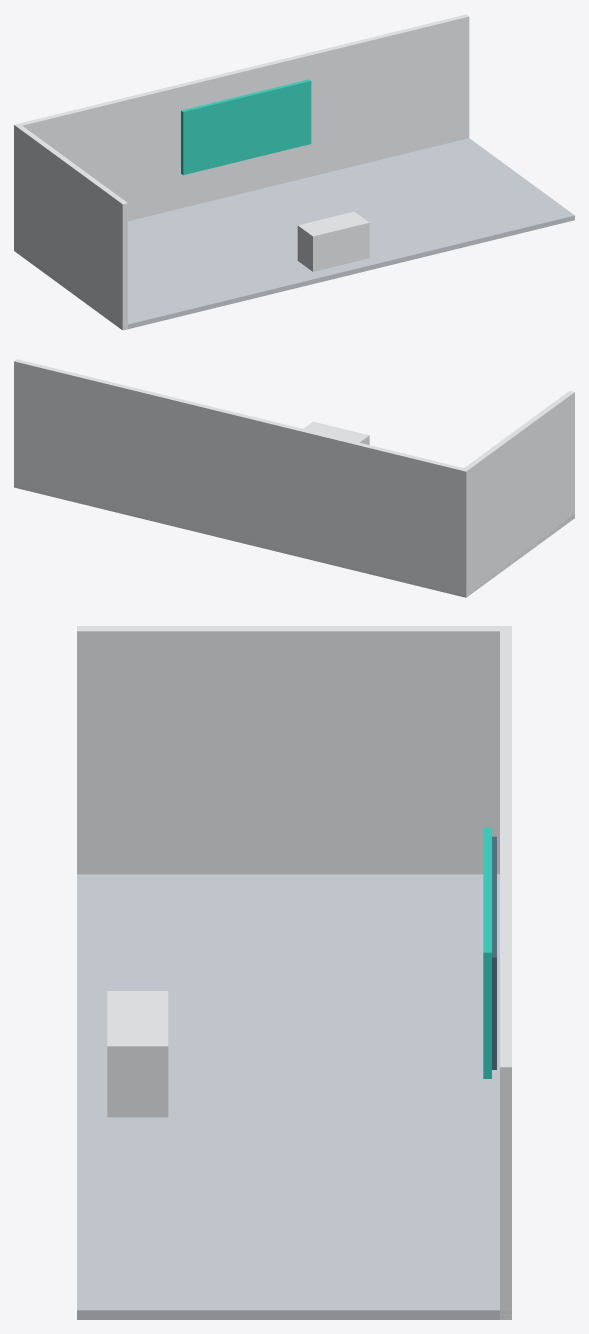
3 renders of one model, top to bottom at view 1: azimuth 30°, elevation 25°; view 2: azimuth 150°, elevation 25°; view 3: azimuth 270°, elevation 25°, orthographic. The views are drawn at different scales.
Parts seen in each view (by area): view 1: Exhibition Booth Concept; view 2: Exhibition Booth Concept; view 3: Exhibition Booth Concept.
Boxes of the visible parts, <box> form: Exhibition Booth Concept: <box>14,14,574,330</box>; Exhibition Booth Concept: <box>14,359,574,597</box>; Exhibition Booth Concept: <box>77,626,511,1319</box>.
Bounding box in the file's own units: 12 × 3.2 × 5.
